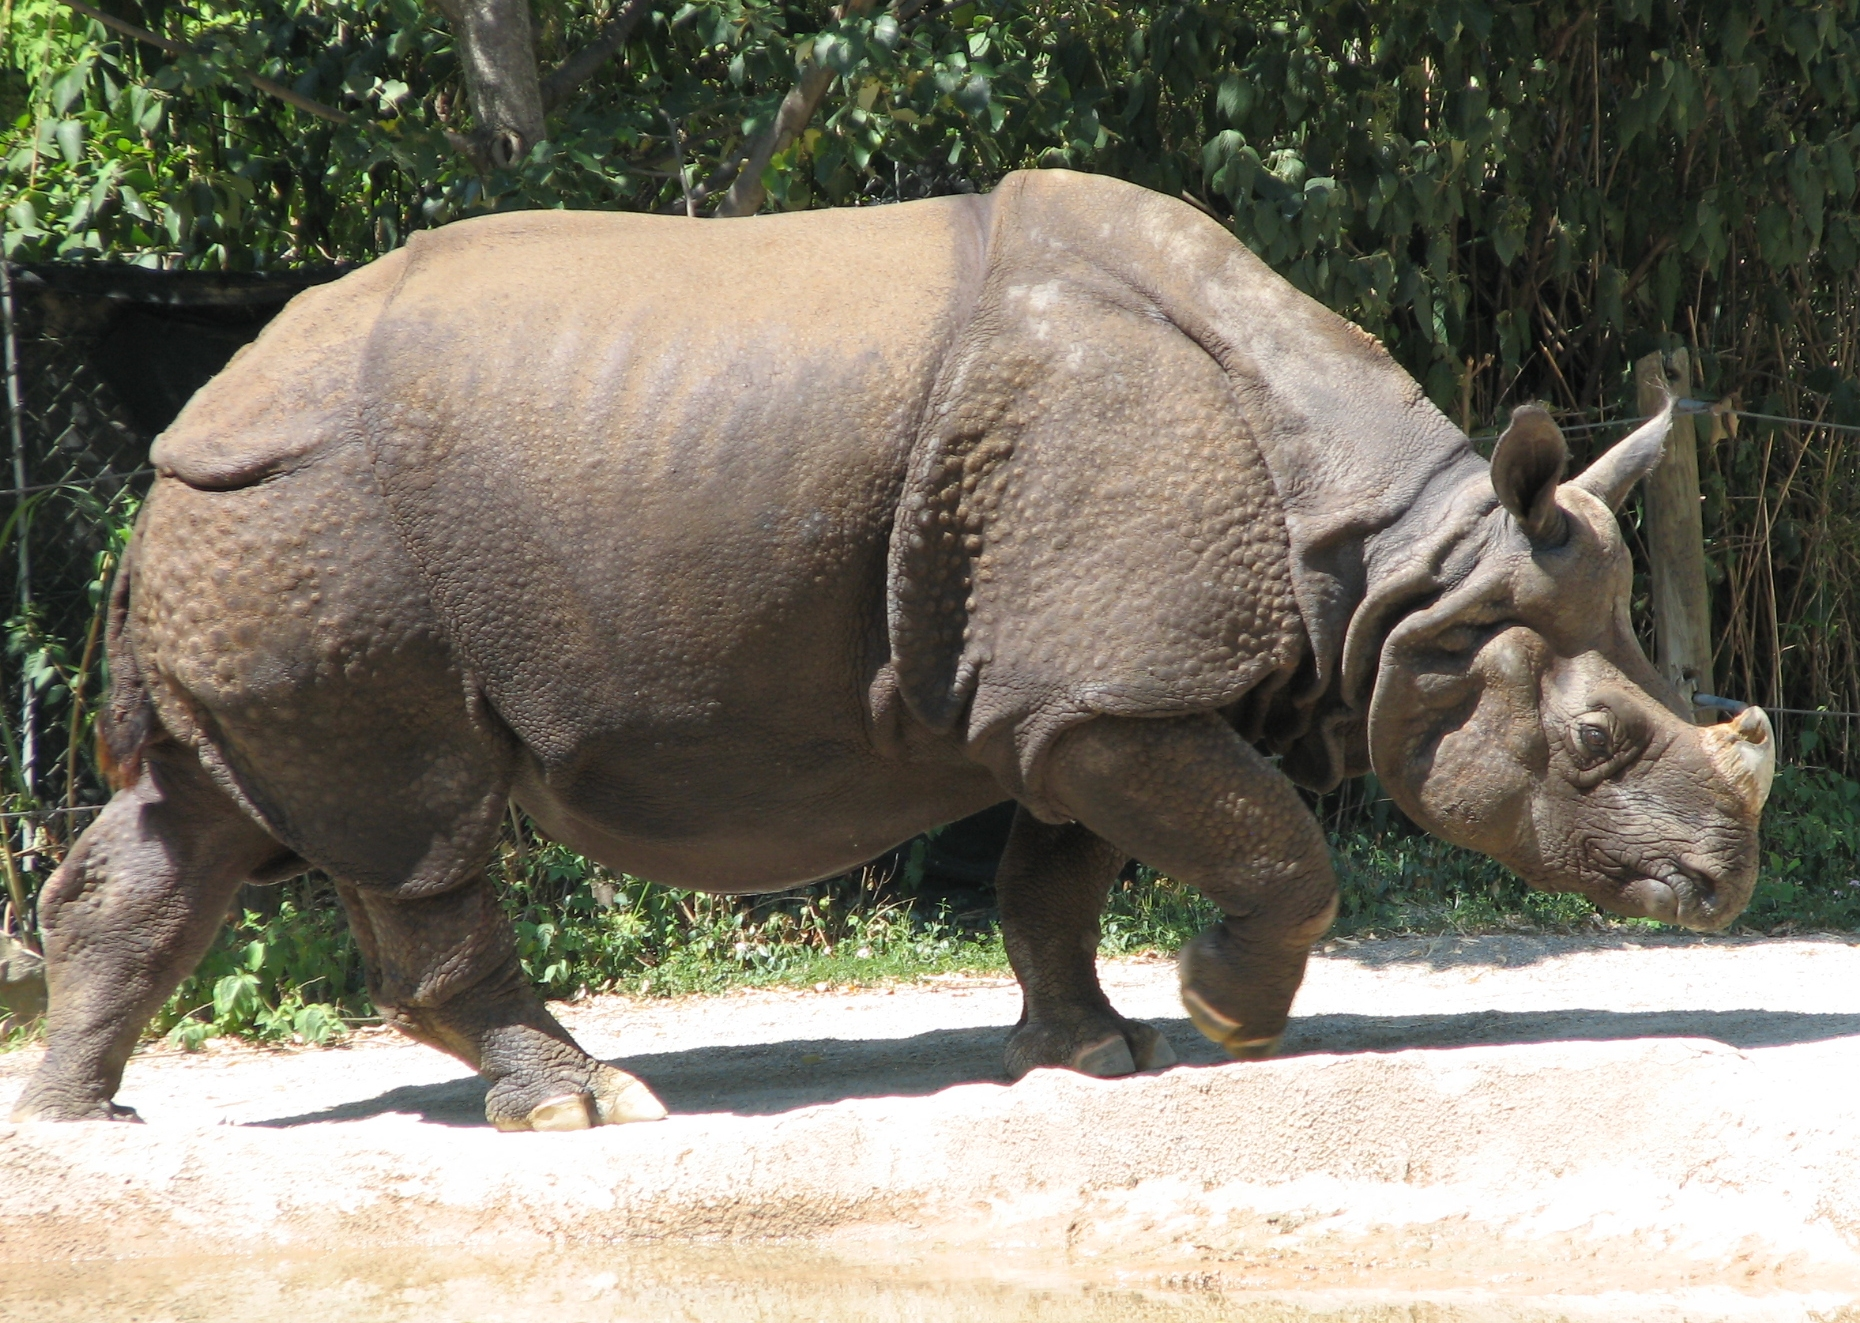rhinoceros: (6, 152, 1778, 1117)
